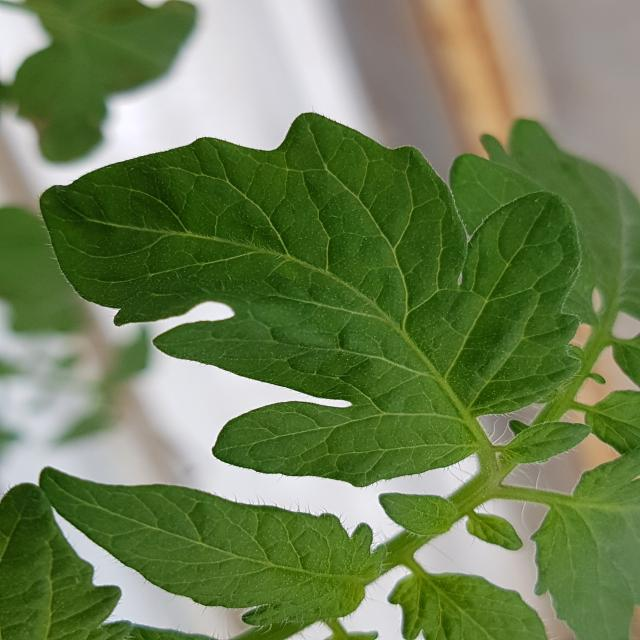Healthy Leaf: (42, 113, 580, 410), (41, 470, 373, 627), (214, 403, 477, 486), (534, 450, 640, 640), (1, 484, 124, 640), (391, 572, 548, 640), (505, 423, 591, 463)
